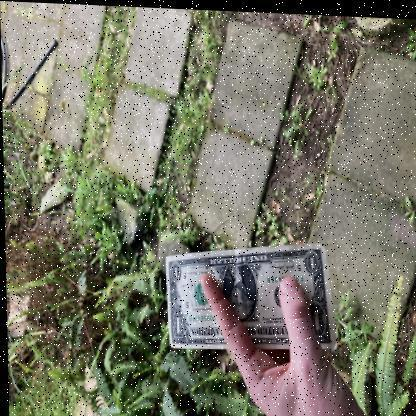dollar_front: (164, 238, 335, 346)
